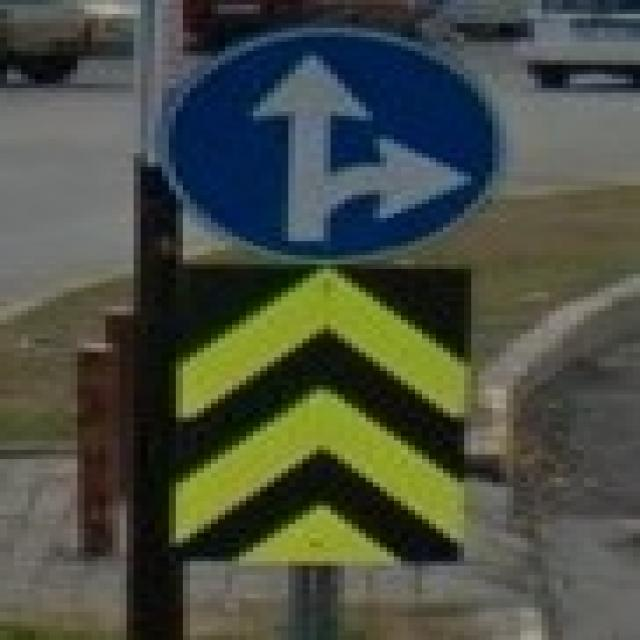Straight or Right: (173, 31, 469, 249)
